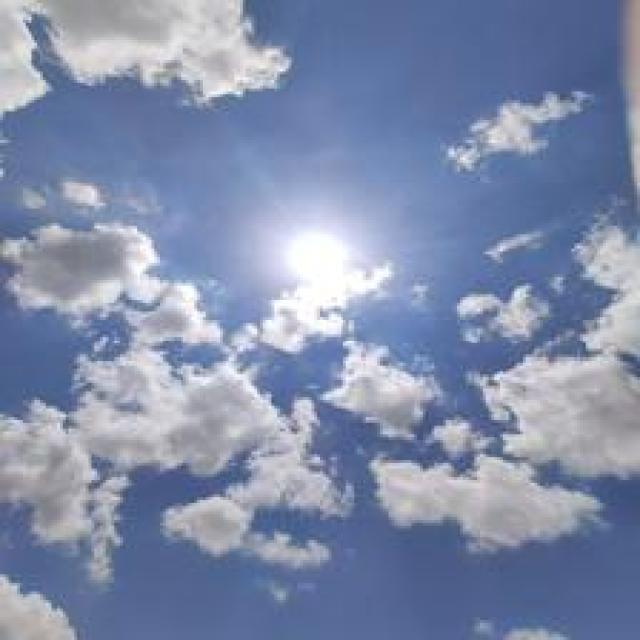sun: (280, 230, 391, 310), (288, 231, 348, 301)
